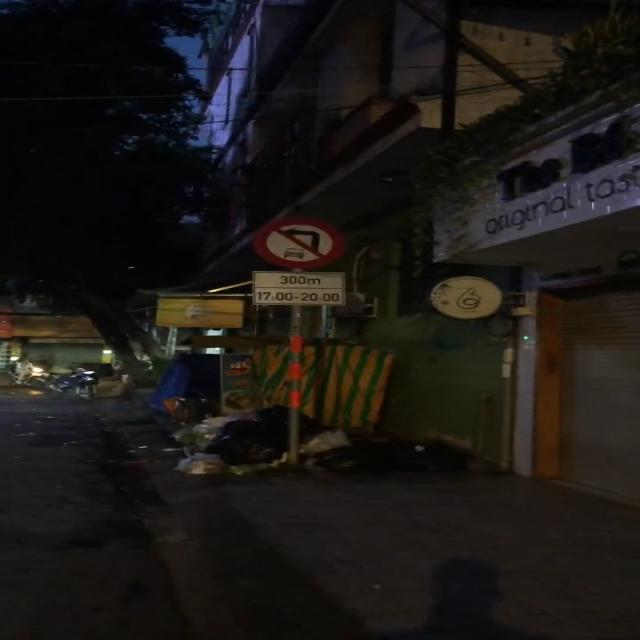Bien bao cam xe o to re trai: (252, 216, 345, 273)
